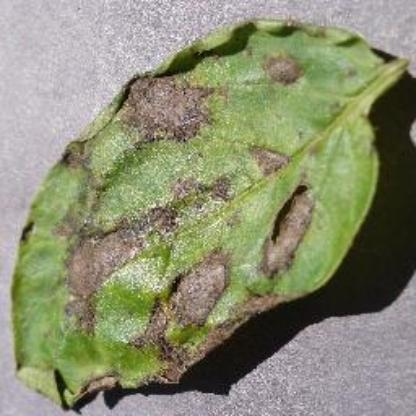Early-Blight: (9, 13, 408, 406)
